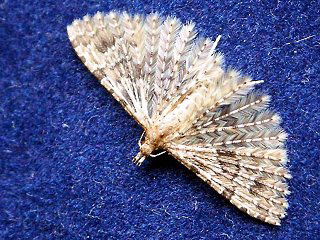Alucitidae: (62, 4, 292, 229)
moth: (64, 6, 294, 231)
